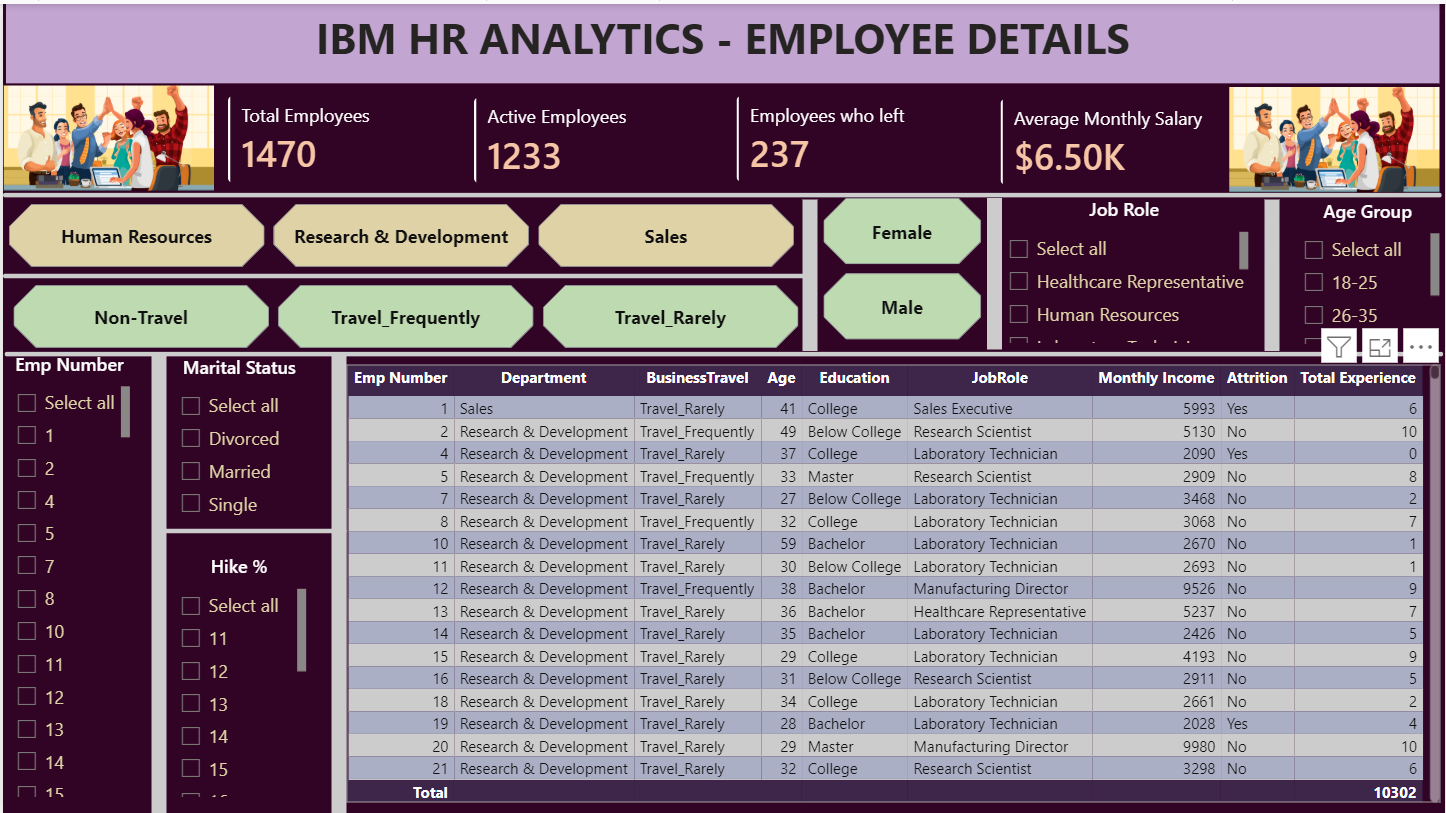

This screenshot's page, from the dashboard's own definition file:
{"tool":"powerbi","page":{"name":"Employee Details","canvas":[1280,720],"ordinal":3},"visuals":[{"type":"cardVisual","fields":{"Data":["Count(IBM HR Attrition Dataset.EmployeeNumber)"]},"box":[187.8,70.6,234.4,101.2],"z":0},{"type":"textbox","box":[2.7,0,1272.8,71.3],"z":1000},{"type":"advancedSlicerVisual","title":"Department","fields":{"Values":["IBM HR Attrition Dataset.Department"]},"box":[0,173.1,709.8,66.6],"z":2000},{"type":"shape","box":[0,122.5,1277.4,96.1],"z":3000},{"type":"shape","box":[1.3,263.7,1277.4,96.1],"z":4000},{"type":"shape","box":[709.8,174.5,13.3,134.5],"z":5000},{"type":"image","box":[0,73.2,187.8,93.2],"z":6000},{"type":"cardVisual","fields":{"Data":["IBM HR Attrition Dataset.Active Employees"]},"box":[406.2,71.9,234.7,100.8],"z":7000},{"type":"cardVisual","fields":{"Data":["IBM HR Attrition Dataset.Employees who left"]},"box":[639.2,70.6,234.7,100.8],"z":8000},{"type":"cardVisual","fields":{"Data":["IBM HR Attrition Dataset.Average Monthly Salary"]},"box":[873.6,73.2,234.7,100.8],"z":9000},{"type":"image","box":[1088,74.6,187.8,93.2],"z":10000},{"type":"shape","box":[0,194.4,716.5,95.9],"z":11000},{"type":"advancedSlicerVisual","title":"Department","fields":{"Values":["IBM HR Attrition Dataset.BusinessTravel"]},"box":[4,245,709.8,66.6],"z":12000},{"type":"advancedSlicerVisual","title":"Department","fields":{"Values":["IBM HR Attrition Dataset.Gender"]},"box":[723.1,167.8,150.5,137.2],"z":13000},{"type":"shape","box":[873.6,173.1,13.3,134.5],"z":14000},{"type":"slicer","title":"Job Role","fields":{"Values":["IBM HR Attrition Dataset.JobRole"]},"box":[880.3,171.8,230.4,134.5],"z":15000},{"type":"slicer","title":"Age Group","fields":{"Values":["IBM HR Attrition Dataset.Age Group"]},"box":[1142.7,172.7,137.9,134.5],"z":16000},{"type":"shape","box":[1120,174.5,13.3,134.5],"z":17000},{"type":"tableEx","fields":{"Values":["IBM HR Attrition Dataset.EmployeeNumber","IBM HR Attrition Dataset.Department","IBM HR Attrition Dataset.BusinessTravel","IBM HR Attrition Dataset.Age","IBM HR Attrition Dataset.Education_cleaned","IBM HR Attrition Dataset.JobRole","IBM HR Attrition Dataset.MonthlyIncome","IBM HR Attrition Dataset.Attrition","Sum(IBM HR Attrition Dataset.YearsAtCompany)"]},"box":[305,320.9,970.8,388.9],"z":18000},{"type":"slicer","title":"Emp Number","fields":{"Values":["IBM HR Attrition Dataset.EmployeeNumber"]},"box":[0,308.9,117.9,400.3],"z":19000},{"type":"slicer","title":"Marital Status","fields":{"Values":["IBM HR Attrition Dataset.MaritalStatus"]},"box":[145.2,311.6,129.2,151.8],"z":20000},{"type":"slicer","title":"Hike %","fields":{"Values":["IBM HR Attrition Dataset.PercentSalaryHike"]},"box":[145.2,488.7,129.2,221.1],"z":21000},{"type":"shape","box":[131.8,311.6,13.3,408.8],"z":22000},{"type":"shape","box":[291.6,311.6,13.3,408.8],"z":23000},{"type":"shape","box":[138.5,420.8,166.5,95.9],"z":24000},{"type":"actionButton","box":[0,0,138.5,70.6],"z":25000},{"type":"actionButton","box":[1182.6,0,97.2,70.6],"z":26000}]}

Visuals, with their boxes in screenshot pixels (x1, y1, x2, y2), scaled from the page's 1280x720 canvas onto the 1446x813 screenshot:
cardVisual - Count(IBM HR Attrition Dataset.EmployeeNumber): 212:80:477:194
textbox: 3:0:1441:81
"Department" advancedSlicerVisual: 0:195:802:271
shape: 0:138:1443:247
shape: 1:298:1445:406
shape: 802:197:817:349
image: 0:83:212:188
cardVisual - IBM HR Attrition Dataset.Active Employees: 459:81:724:195
cardVisual - IBM HR Attrition Dataset.Employees who left: 722:80:987:194
cardVisual - IBM HR Attrition Dataset.Average Monthly Salary: 987:83:1252:196
image: 1229:84:1441:189
shape: 0:220:809:328
"Department" advancedSlicerVisual: 5:277:806:352
"Department" advancedSlicerVisual: 817:189:987:344
shape: 987:195:1002:347
"Job Role" slicer: 994:194:1255:346
"Age Group" slicer: 1291:195:1445:347
shape: 1265:197:1280:349
tableEx - IBM HR Attrition Dataset.EmployeeNumber x IBM HR Attrition Dataset.Department: 345:362:1441:801
"Emp Number" slicer: 0:349:133:801
"Marital Status" slicer: 164:352:310:523
"Hike %" slicer: 164:552:310:801
shape: 149:352:164:812
shape: 329:352:344:812
shape: 156:475:345:583
actionButton: 0:0:156:80
actionButton: 1336:0:1445:80
